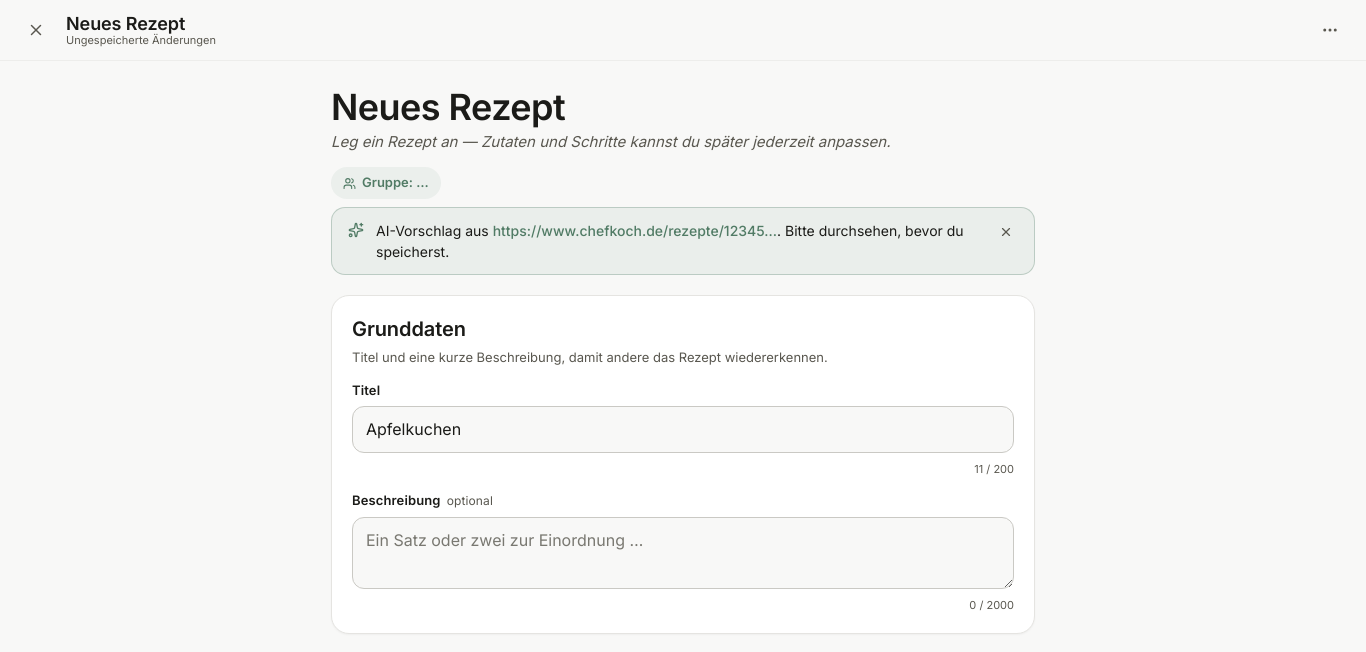
Test: RecipeFormPage (create) › renders the AI-Vorschlag banner with the (truncated) source URL on prefill, which is dismissible
Check: the element named "ki-import-hinweis" shows "AI-Vorschlag aus", box left=376, top=222, right=493, bottom=239
Check: the element named "ki-import-hinweis" shows "…", box left=331, top=207, right=1035, bottom=275
// Dismiss — banner disappears but the form data stays.
Click the button named "hinweis ausblenden".
click(1006, 232)  # box left=994, top=220, right=1018, bottom=244
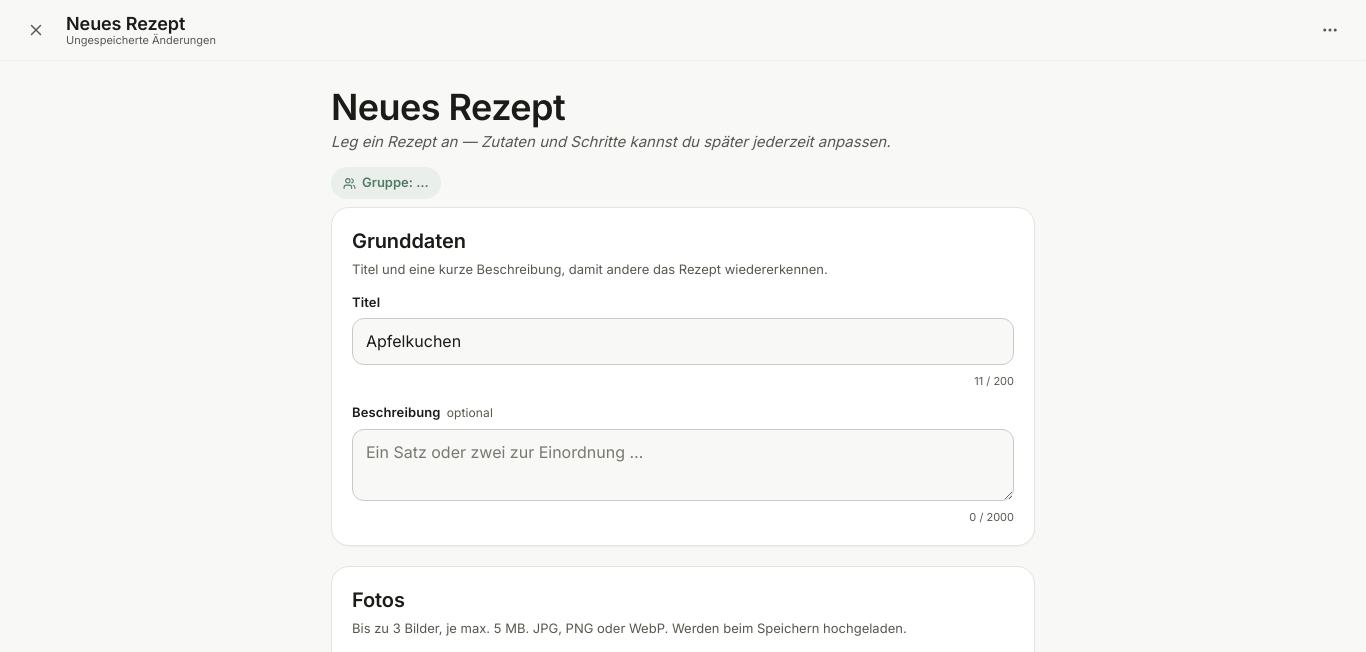
Check: the field showing "Apfelkuchen" is shown, box left=352, top=318, right=1014, bottom=364
Check: the element "ki-import-hinweis" is gone
